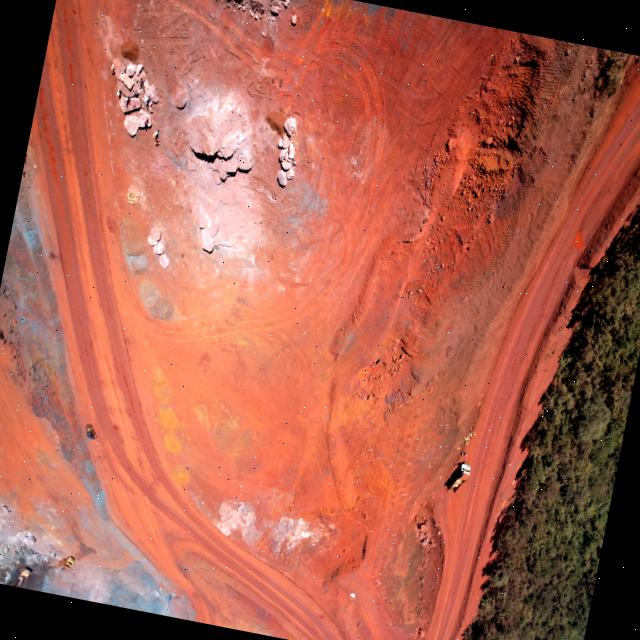Dumper truck: (448, 459, 472, 496), (12, 564, 34, 590), (58, 555, 75, 573)
car: (84, 424, 99, 440)
person: (154, 128, 160, 137), (138, 78, 144, 87), (145, 95, 150, 104), (124, 95, 129, 104), (143, 117, 148, 126), (155, 140, 161, 146)
